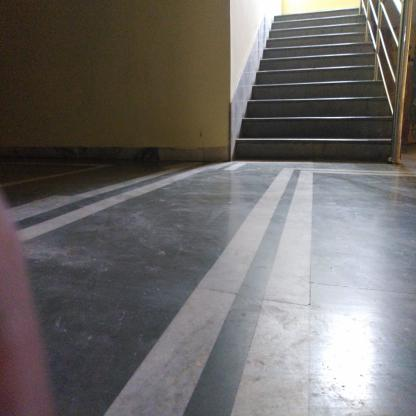stairs: (275, 16, 362, 168)
